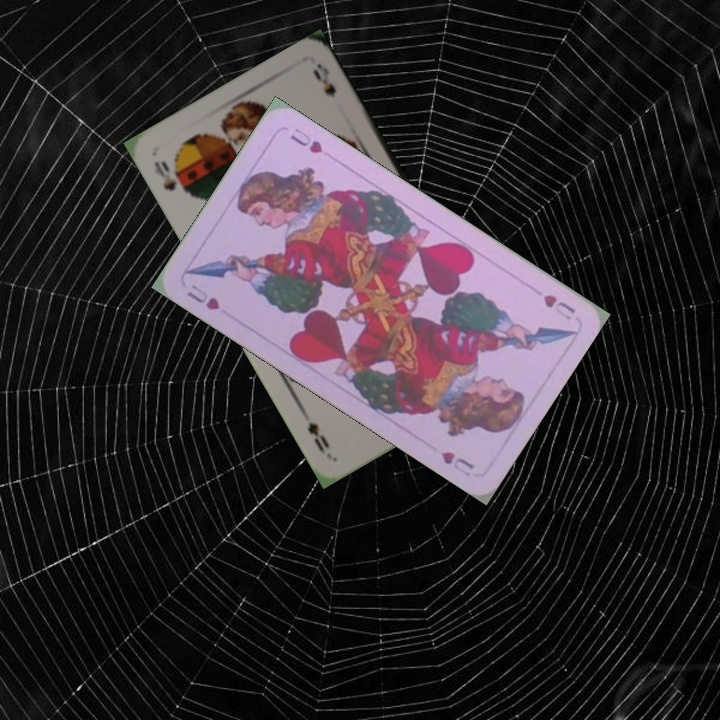HU: (183, 280, 223, 313), (539, 290, 578, 323)
SO: (150, 156, 191, 196)
